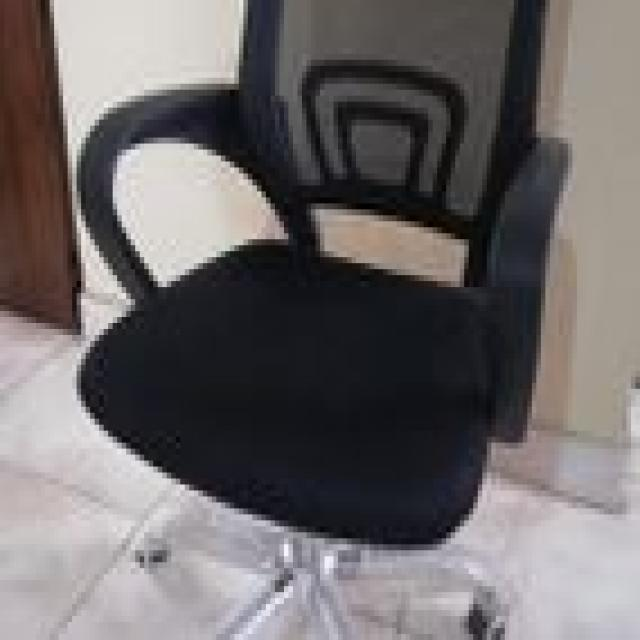others: (67, 6, 608, 562)
